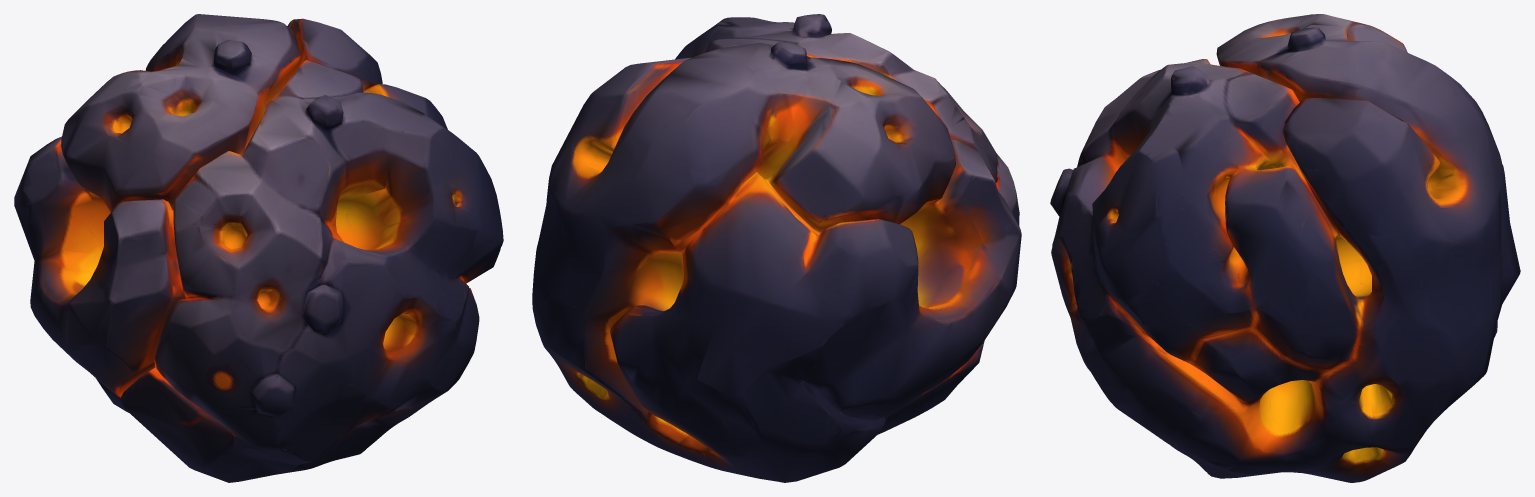
File: meteor.glb
3 views of the same model, side by side, from view 1: azimuth 30°, elevation 25°; view 2: azimuth 150°, elevation 25°; view 3: azimuth 270°, elevation 25° (orthographic). The views are drawn at different scales.
Parts seen in each view (by area): view 1: node_0; view 2: node_0; view 3: node_0.
Boxes of the visible parts, box(x1,y1,x2,y2) form: node_0: box(14, 14, 503, 482); node_0: box(532, 14, 1021, 482); node_0: box(1050, 14, 1520, 482).
Bounding box in the file's own units: 1.08 × 1.05 × 1.07.
Materials: 1 (1 with a texture image).
